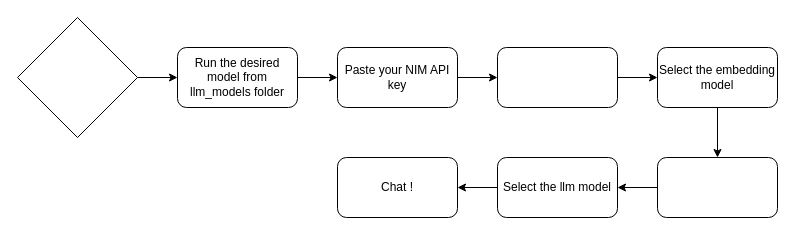
Some shapes in this 795 by 235 pixel diagram are drawn without their labels. The centre of each missing label's shape, as x and y in pixels:
"Click create vector store" belongs at (x=717, y=187).
"Local model sellected?" belongs at (x=77, y=77).
"Select the files which to be added to vector database" belongs at (x=557, y=77).
